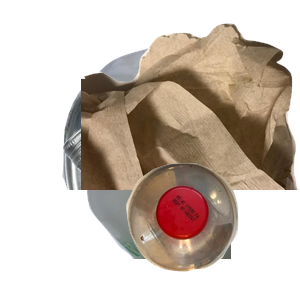glass: (60, 120, 300, 300)
metal: (60, 44, 300, 224)
plastic: (124, 161, 300, 300)
trash: (81, 21, 300, 201)
